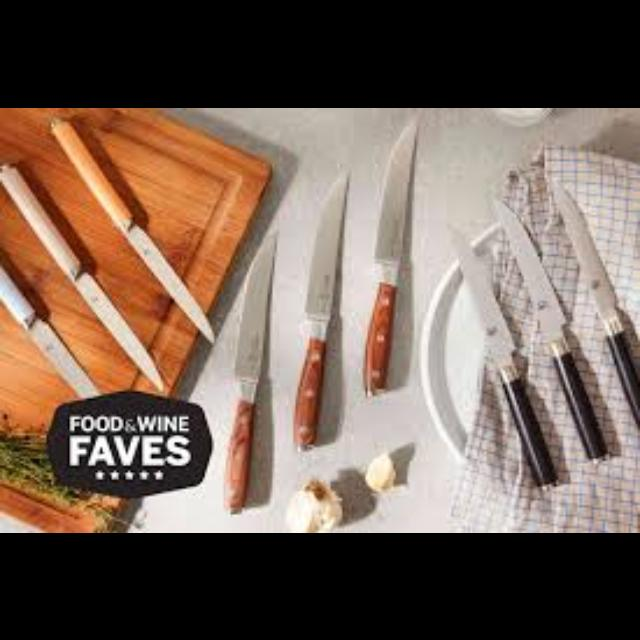knife: (1, 158, 166, 394), (48, 112, 214, 344), (491, 195, 607, 460), (445, 220, 559, 488), (547, 176, 637, 428), (221, 214, 279, 514), (291, 163, 349, 451), (364, 109, 418, 395), (0, 245, 100, 398)
